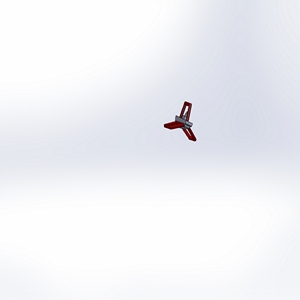submarine: (144, 95, 223, 162)
